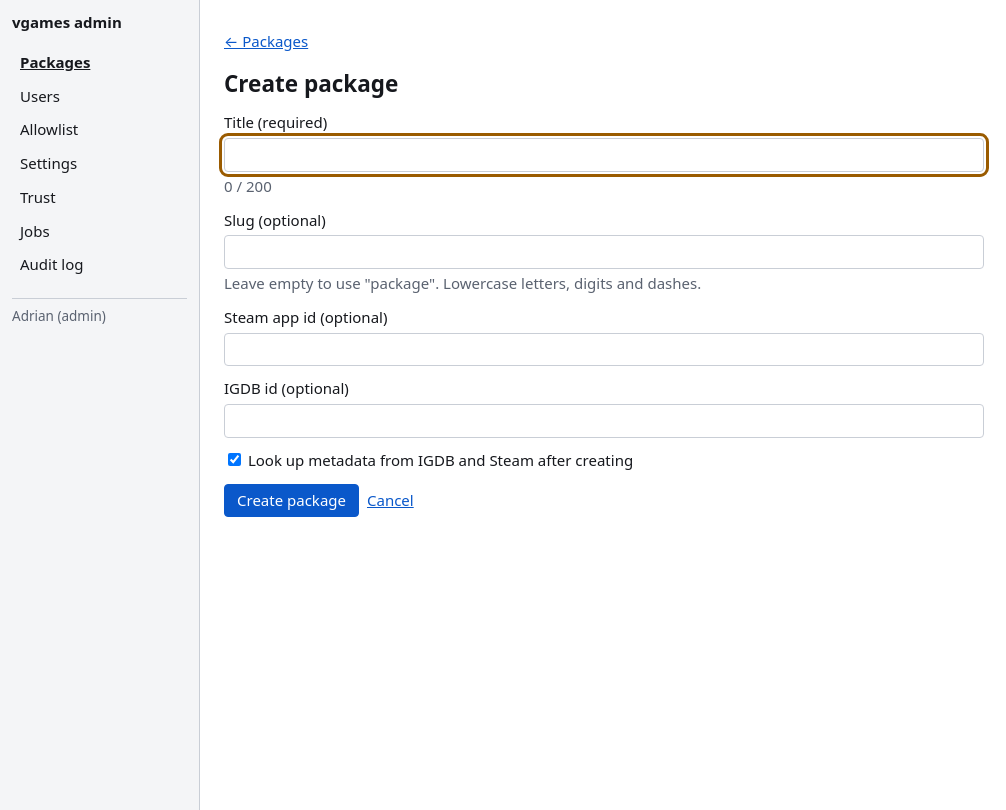
create package › maps a taken slug and server field errors onto the fields
The width and height of the screenshot is (1006, 810).
Step 1. Type "Anything" into the field labelled "Title (required)" → (604, 155), box [224,138,984,172]
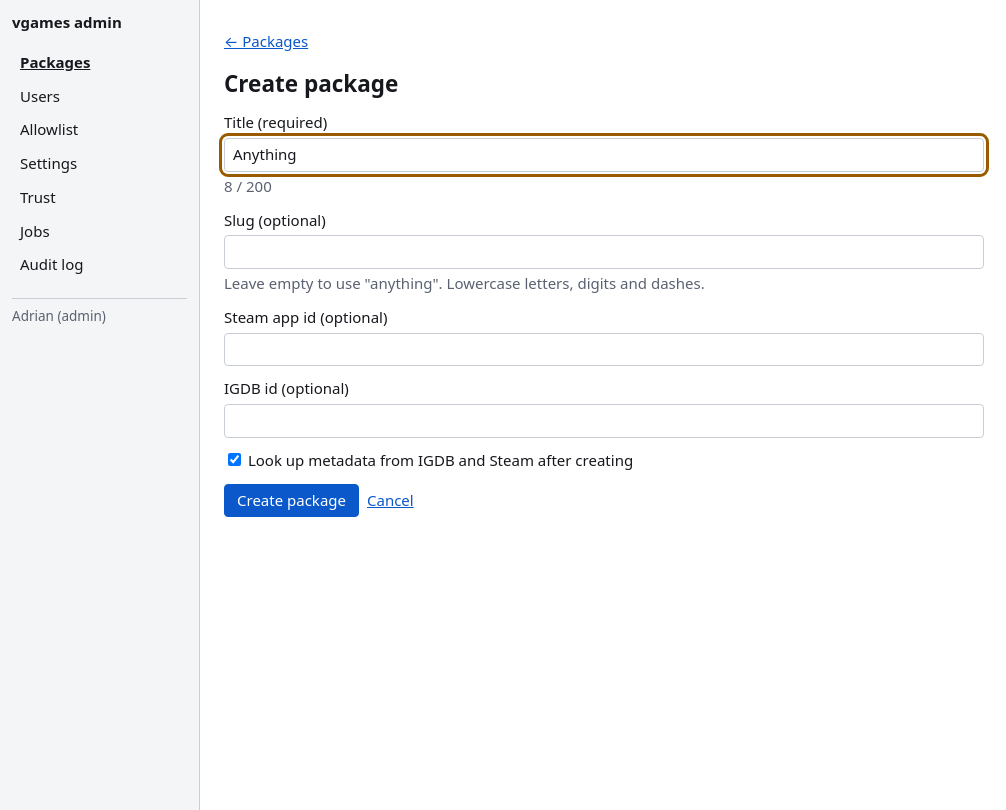
Step 2. Type "hollow-harbor" into the field labelled "Slug (optional)" → (604, 252), box [224,235,984,269]
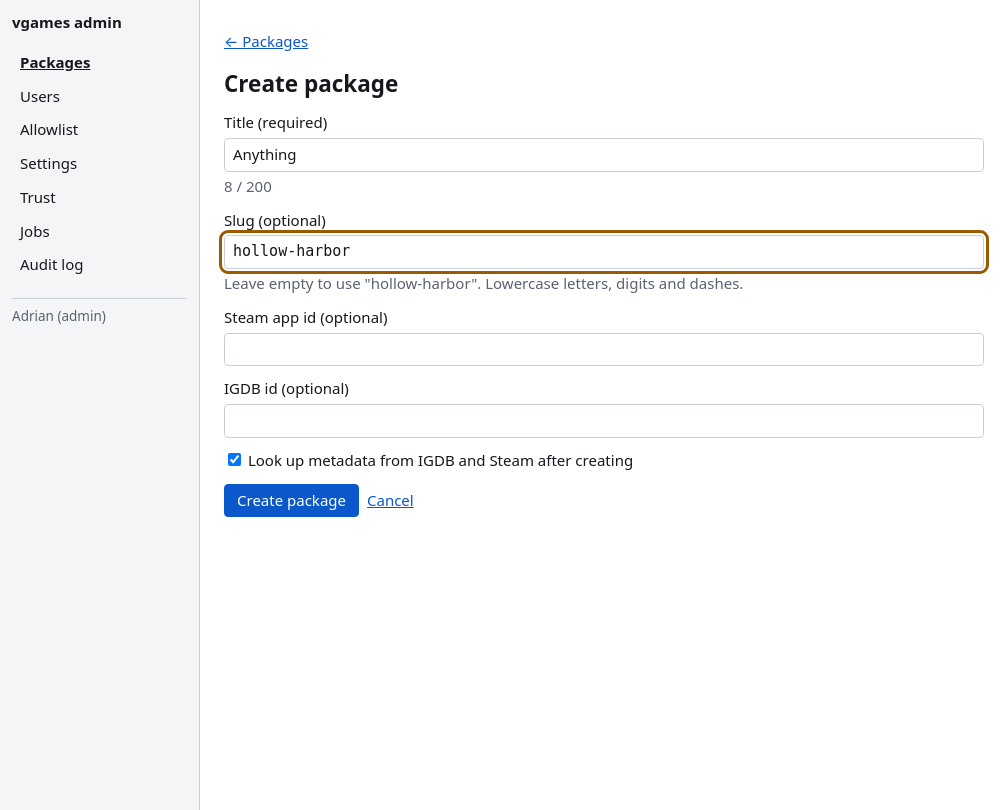
Step 3. Click the button "Create package" → (292, 500), box [224,484,359,517]
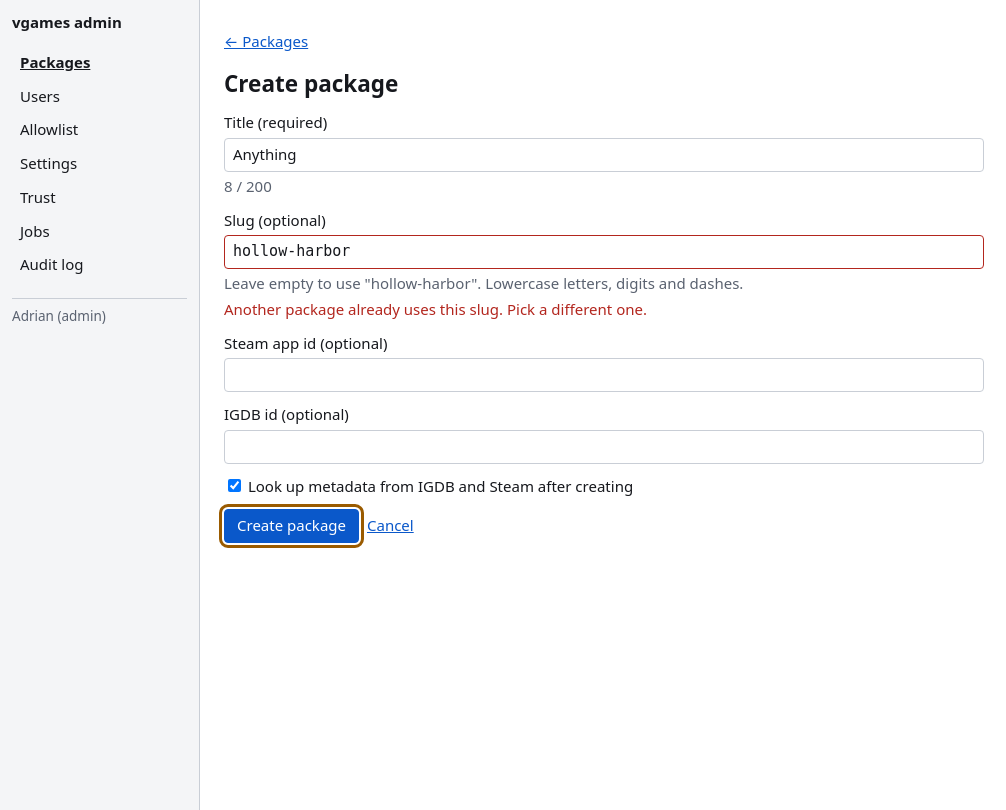
Result: the text "Another package already uses this slug" is shown at [224,299,647,319]
